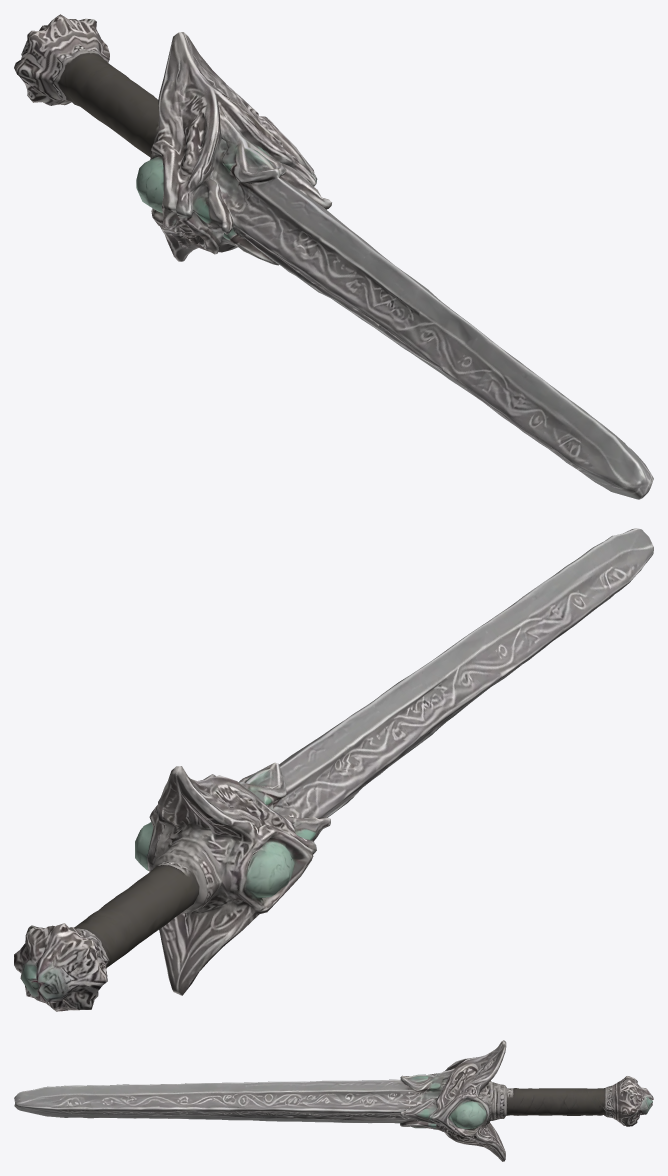
3 renders of one model, top to bottom at view 1: azimuth 30°, elevation 25°; view 2: azimuth 150°, elevation 25°; view 3: azimuth 270°, elevation 25°, orthographic. The views are drawn at different scales.
Visible parts, largest first — view 1: tripo_node_f3667b28-3ef1-4833-8ff5-c8b5b78b423a; view 2: tripo_node_f3667b28-3ef1-4833-8ff5-c8b5b78b423a; view 3: tripo_node_f3667b28-3ef1-4833-8ff5-c8b5b78b423a.
Part boxes in pixels (x1,y1,x2,y2): tripo_node_f3667b28-3ef1-4833-8ff5-c8b5b78b423a: [14, 14, 653, 499]; tripo_node_f3667b28-3ef1-4833-8ff5-c8b5b78b423a: [14, 528, 653, 1011]; tripo_node_f3667b28-3ef1-4833-8ff5-c8b5b78b423a: [14, 1040, 653, 1161].
Size of the model in its own units: 0.1444 by 0.2084 by 1.
Materials: 1 (1 with a texture image).
